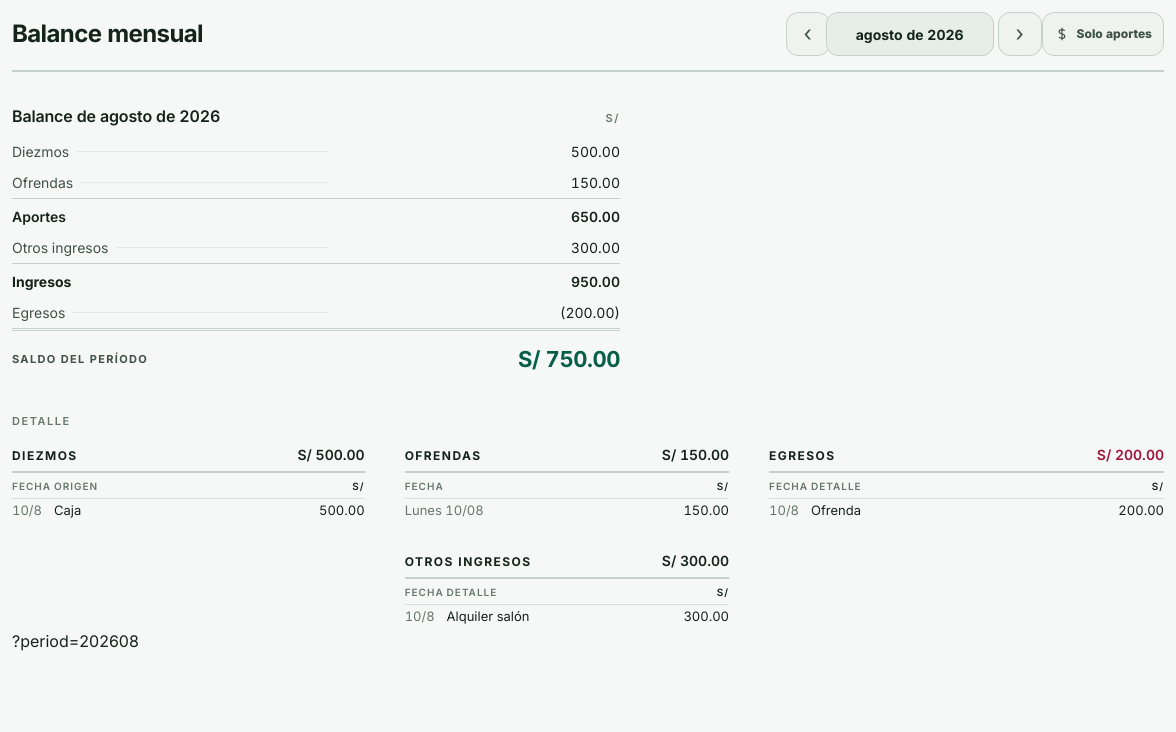
it: MonthlyBalancePage › recalcula el resumen con 'Solo aportes' sin tocar las listas de detalle
The image size is (1176, 732).
Check: the heading "Balance de agosto de 2026" is shown, box [12,104,220,128]
What coordinates should you click on to do the following:
click the button with aria-label "solo con aportes"
I would click on:
 (1103, 34)
Its box is [1042,12,1164,56].
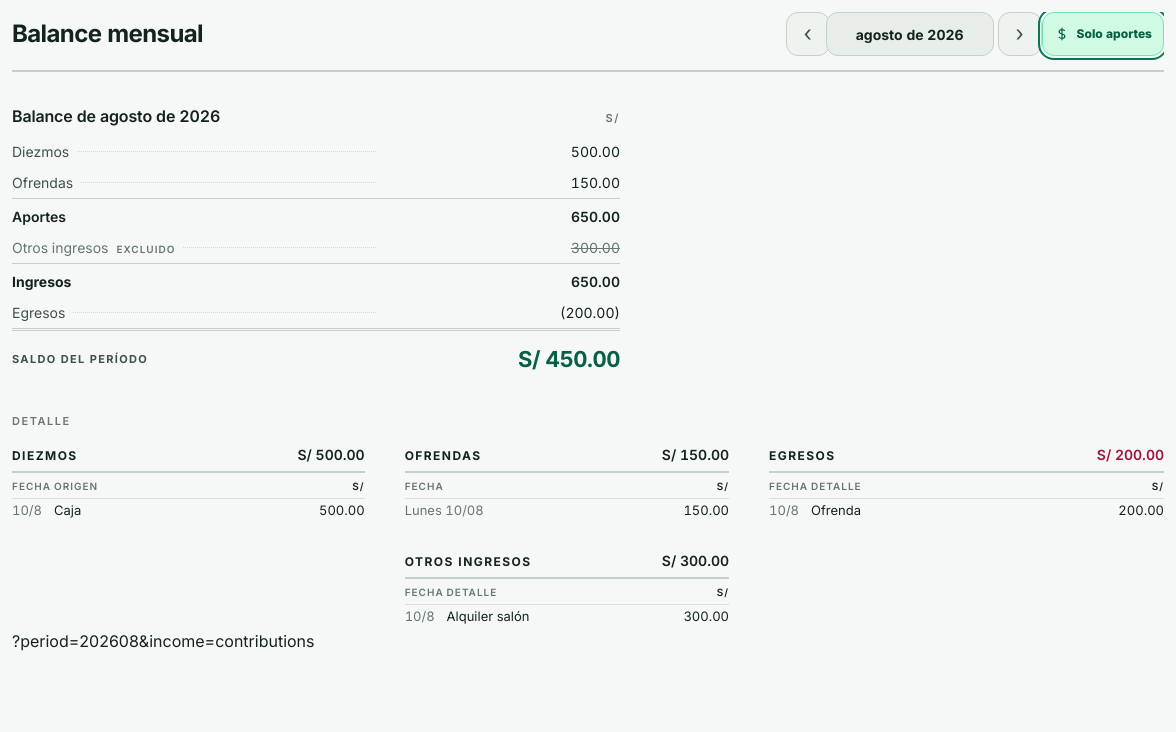
Check: the text "Alquiler salón" is shown, box [447,604,683,628]
Check: the text with test id "location" shows "income=contributions", box [12,631,314,651]
